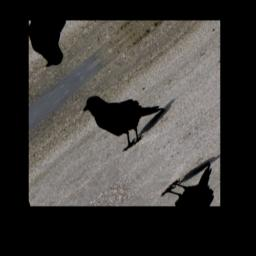Crow: (77, 64, 171, 158)
